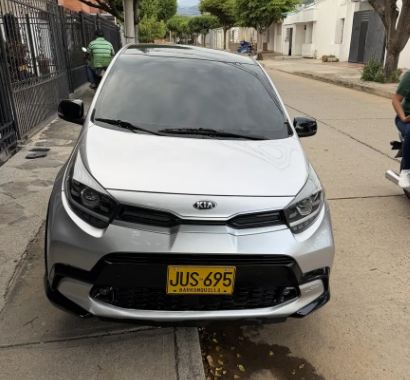placa: (167, 263, 234, 296)
